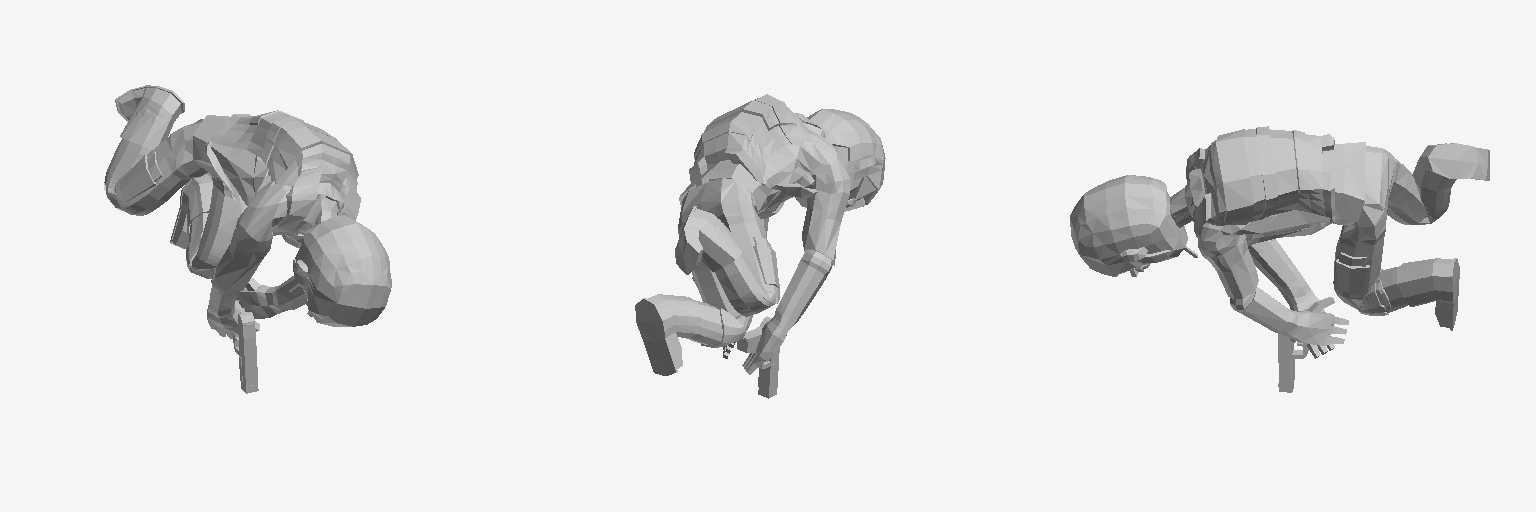
Rendered from frame_0002.obj.
3 views of the same model, side by side, from view 1: azimuth 30°, elevation 25°; view 2: azimuth 150°, elevation 25°; view 3: azimuth 270°, elevation 25° (orthographic).
Visible parts, largest first — view 1: Body, Gun; view 2: Body, Gun; view 3: Body, Gun.
Part boxes in pixels (x1,y1,x2,y2): Body: (104,85,391,338); Gun: (233,300,258,393); Body: (635,94,885,375); Gun: (737,316,779,398); Body: (1070,126,1489,358); Gun: (1278,309,1333,392).
Bounding box in the file's own units: 1.42 × 2.41 × 3.38.